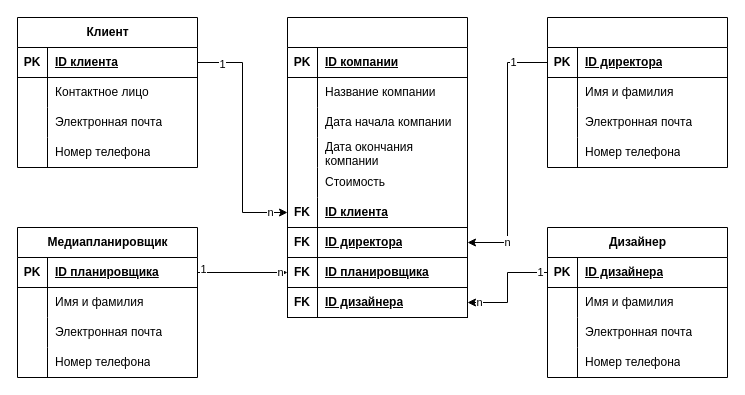
Image size: 745x395. Some labels were removed from this diagram. The box of each missing label's shape, as (x1, y1, x2, y2) in pixels:
Креативный директор: (546, 16, 728, 168)
Рекламная компания: (286, 16, 468, 318)
